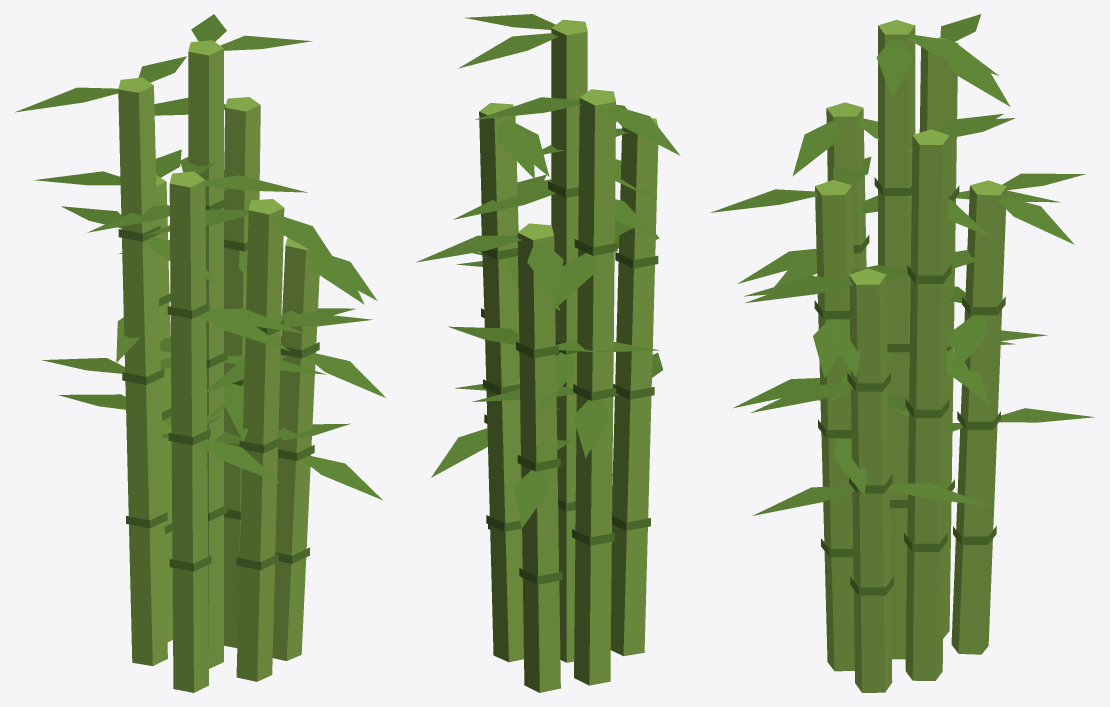
The model's file is bamboo.glb.
The picture shows the model from 3 angles, left to right: view 1: azimuth 30°, elevation 25°; view 2: azimuth 150°, elevation 25°; view 3: azimuth 270°, elevation 25°; orthographic projection. The views are drawn at different scales.
Visible parts, largest first — view 1: bamboo; view 2: bamboo; view 3: bamboo.
Part boxes in pixels (box(x1,y1,x2,y2)): bamboo: box(15, 14, 385, 692); bamboo: box(416, 14, 680, 692); bamboo: box(710, 14, 1094, 692).
Bounding box in the file's own units: 1.45 × 3 × 1.68.
Materials: 1 (1 with a texture image).
